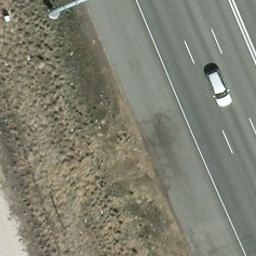car: (202, 69, 234, 109)
